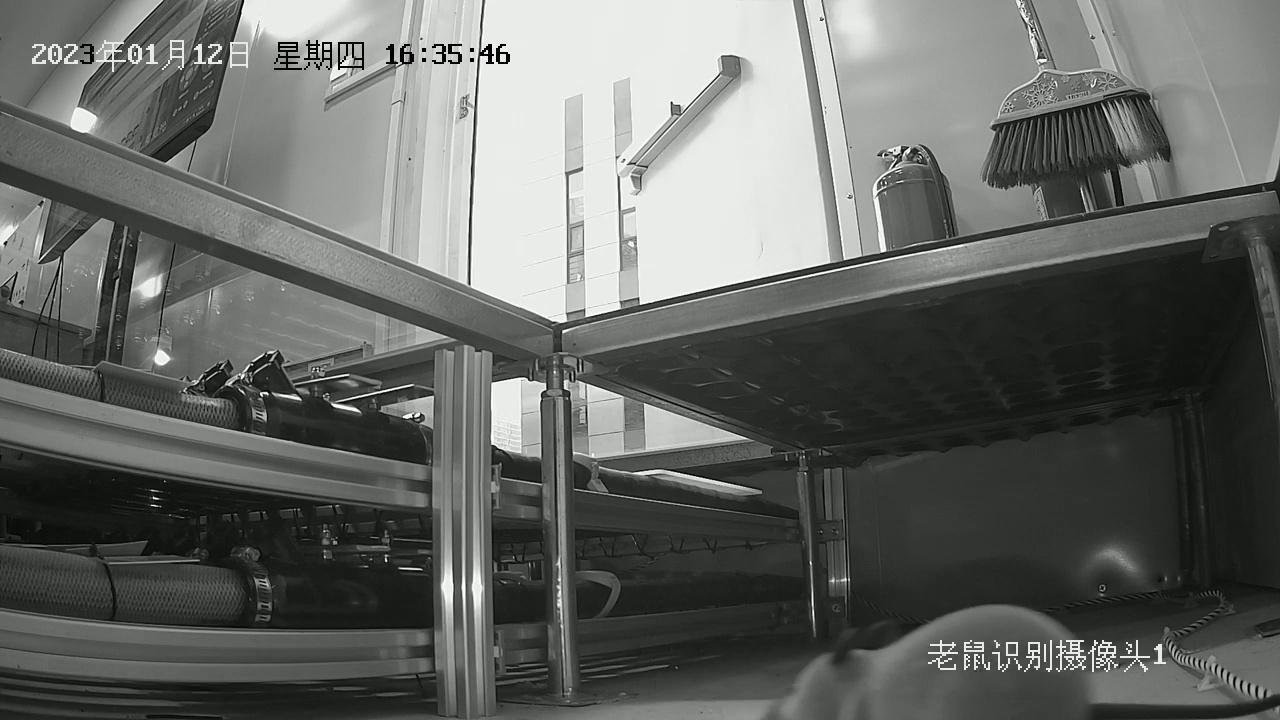rat: (763, 606, 1092, 719)
